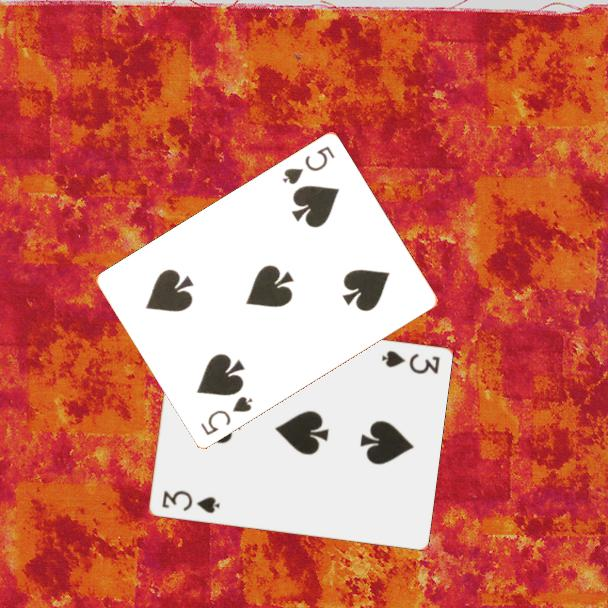s03: (378, 347, 442, 377), (158, 487, 222, 516)
s05: (197, 393, 256, 439), (278, 143, 338, 188)
